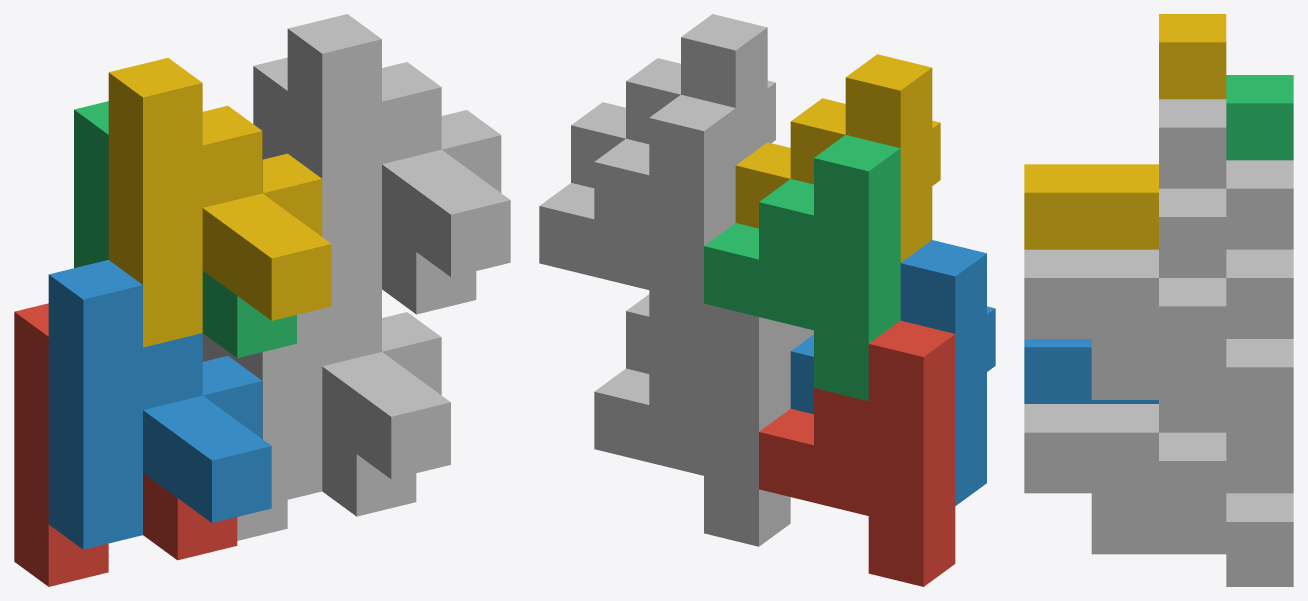
The model's file is tiling.obj.
3 views of the same model, side by side, from view 1: azimuth 30°, elevation 25°; view 2: azimuth 150°, elevation 25°; view 3: azimuth 270°, elevation 25° (orthographic). The views are drawn at different scales.
Parts seen in each view (by area): view 1: copy_1_domain_2, copy_1_domain_4, copy_1_domain_8, copy_1_domain_6, copy_1_domain_1, copy_1_domain_3, copy_1_domain_7, copy_1_domain_5; view 2: copy_1_domain_1, copy_1_domain_3, copy_1_domain_7, copy_1_domain_5, copy_1_domain_4, copy_1_domain_8, copy_1_domain_2, copy_1_domain_6; view 3: copy_1_domain_8, copy_1_domain_7, copy_1_domain_6, copy_1_domain_4, copy_1_domain_5, copy_1_domain_3, copy_1_domain_2.
Part boxes in pixels (x1,y1,x2,y2): copy_1_domain_2: (48, 260, 271, 549); copy_1_domain_4: (108, 58, 331, 347); copy_1_domain_8: (287, 14, 510, 301); copy_1_domain_6: (228, 289, 450, 503); copy_1_domain_1: (14, 303, 237, 586); copy_1_domain_3: (74, 101, 296, 358); copy_1_domain_7: (253, 57, 476, 314); copy_1_domain_5: (202, 333, 416, 540); copy_1_domain_1: (759, 320, 955, 586); copy_1_domain_3: (704, 135, 900, 400); copy_1_domain_7: (539, 94, 735, 360); copy_1_domain_5: (594, 303, 790, 546); copy_1_domain_4: (735, 54, 940, 262); copy_1_domain_8: (571, 14, 775, 188); copy_1_domain_2: (790, 240, 995, 505); copy_1_domain_6: (626, 294, 813, 373); copy_1_domain_8: (1024, 99, 1226, 367); copy_1_domain_7: (1091, 160, 1293, 432); copy_1_domain_6: (1024, 400, 1226, 521); copy_1_domain_4: (1024, 14, 1226, 249); copy_1_domain_5: (1091, 432, 1293, 586); copy_1_domain_3: (1226, 75, 1293, 160); copy_1_domain_2: (1024, 339, 1158, 403).
Bounding box in the file's own units: 7 × 8 × 4.
